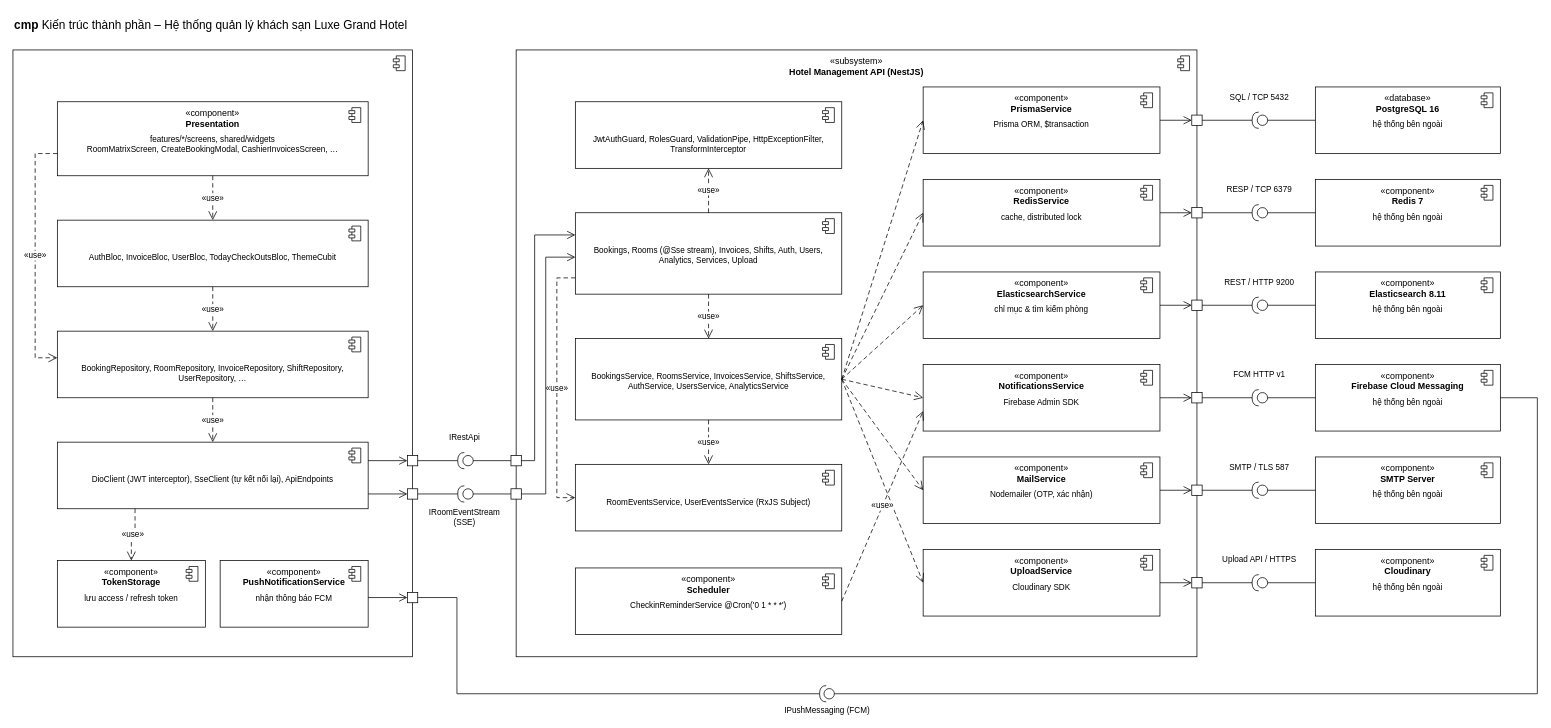
The diagram is 1551 pixels wide and 728 high, and some of its shapes have lost their labels. Each missing label, with the box of its shape:
«component» Domain Services: (575, 338, 842, 420)
«component» Network: (57, 441, 368, 509)
«component» Realtime Event Bus: (575, 464, 842, 531)
«component» Repositories: (57, 330, 368, 398)
«component» REST Controllers: (575, 212, 842, 294)
«component» Security & Pipeline: (575, 101, 842, 168)
«component» State Management (BLoC): (57, 219, 368, 287)
«subsystem» Hotel App (Flutter): (12, 49, 413, 657)
